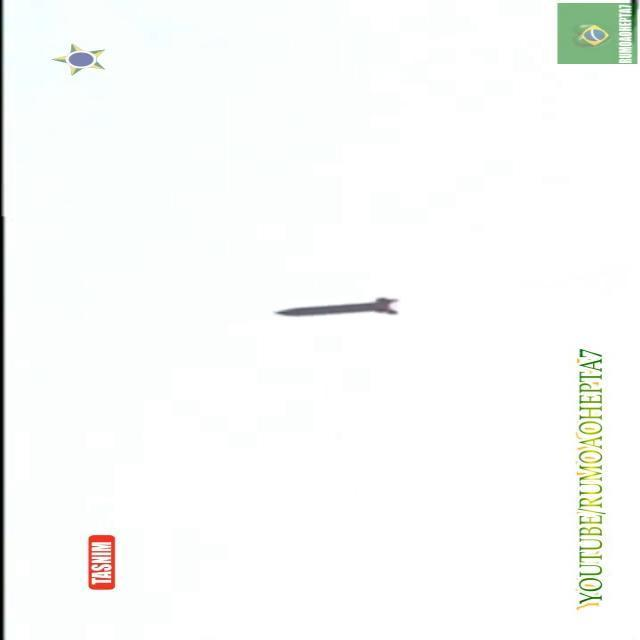Missile: (267, 292, 407, 326)
